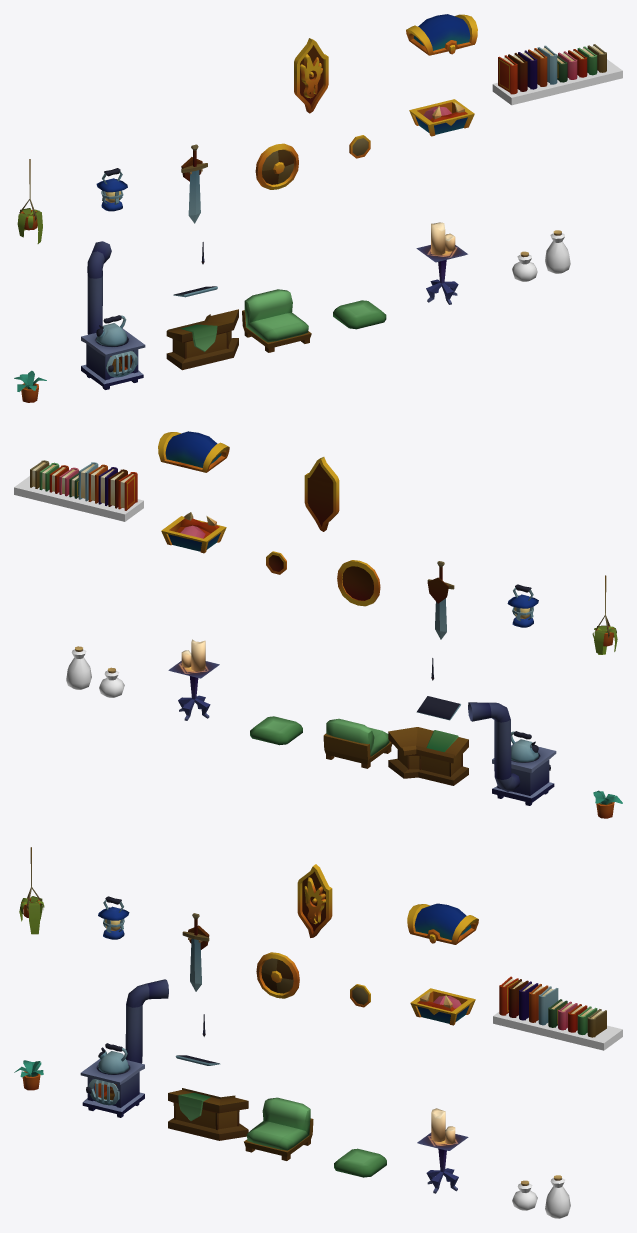
The model's file is Eliza-Environment-Accesoires-simple.fbx.
3 renders of one model, top to bottom at view 1: azimuth 30°, elevation 25°; view 2: azimuth 150°, elevation 25°; view 3: azimuth 330°, elevation 25°, orthographic.
Parts seen in each view (by area): view 1: Cube.037, Cube.011, Cube.036, Cube, Cube.055, Cube.043, Cube.035, Cube.034, Cube.033, Cube.039, Cube.067, Cube.044 (+5 smaller); view 2: Cube.037, Cube.036, Cube.034, Cube, Cube.055, Cube.035, Cube.043, Cube.011, Cube.066, Cube.010, Cube.033, Cube.039 (+5 smaller); view 3: Cube.037, Cube.011, Cube.036, Cube, Cube.034, Cube.055, Cube.043, Cube.035, Cube.033, Cube.039, Cube.067, Cube.044 (+6 smaller).
Part boxes in pixels (bbox=[...]): Cube.037: bbox=[166, 309, 238, 370]; Cube.011: bbox=[244, 289, 308, 342]; Cube.036: bbox=[406, 14, 477, 55]; Cube: bbox=[81, 328, 145, 389]; Cube.055: bbox=[492, 59, 622, 105]; Cube.043: bbox=[255, 143, 298, 189]; Cube.035: bbox=[409, 99, 474, 136]; Cube.034: bbox=[87, 241, 111, 334]; Cube.033: bbox=[333, 300, 386, 329]; Cube.039: bbox=[416, 245, 467, 304]; Cube.067: bbox=[294, 38, 328, 113]; Cube.044: bbox=[181, 144, 207, 223]; Cube.037: bbox=[388, 727, 468, 785]; Cube.036: bbox=[158, 431, 229, 472]; Cube.034: bbox=[468, 702, 520, 791]; Cube: bbox=[492, 741, 556, 805]; Cube.055: bbox=[14, 476, 143, 521]; Cube.035: bbox=[161, 512, 226, 553]; Cube.043: bbox=[337, 560, 380, 606]; Cube.011: bbox=[326, 718, 389, 756]; Cube.066: bbox=[307, 463, 333, 526]; Cube.010: bbox=[323, 733, 392, 768]; Cube.033: bbox=[250, 716, 302, 745]; Cube.039: bbox=[168, 661, 219, 720]; Cube.037: bbox=[168, 1088, 248, 1140]; Cube.011: bbox=[246, 1097, 310, 1150]; Cube.036: bbox=[407, 903, 478, 944]; Cube: bbox=[80, 1059, 144, 1117]; Cube.034: bbox=[125, 979, 168, 1063]; Cube.055: bbox=[493, 1012, 622, 1050]; Cube.043: bbox=[256, 952, 299, 998]; Cube.035: bbox=[410, 988, 475, 1025]; Cube.033: bbox=[334, 1148, 386, 1177]; Cube.039: bbox=[417, 1132, 468, 1193]; Cube.067: bbox=[297, 864, 332, 937]; Cube.044: bbox=[182, 913, 209, 991].
Bounding box in the file's own units: 3627 × 1688 × 504.
